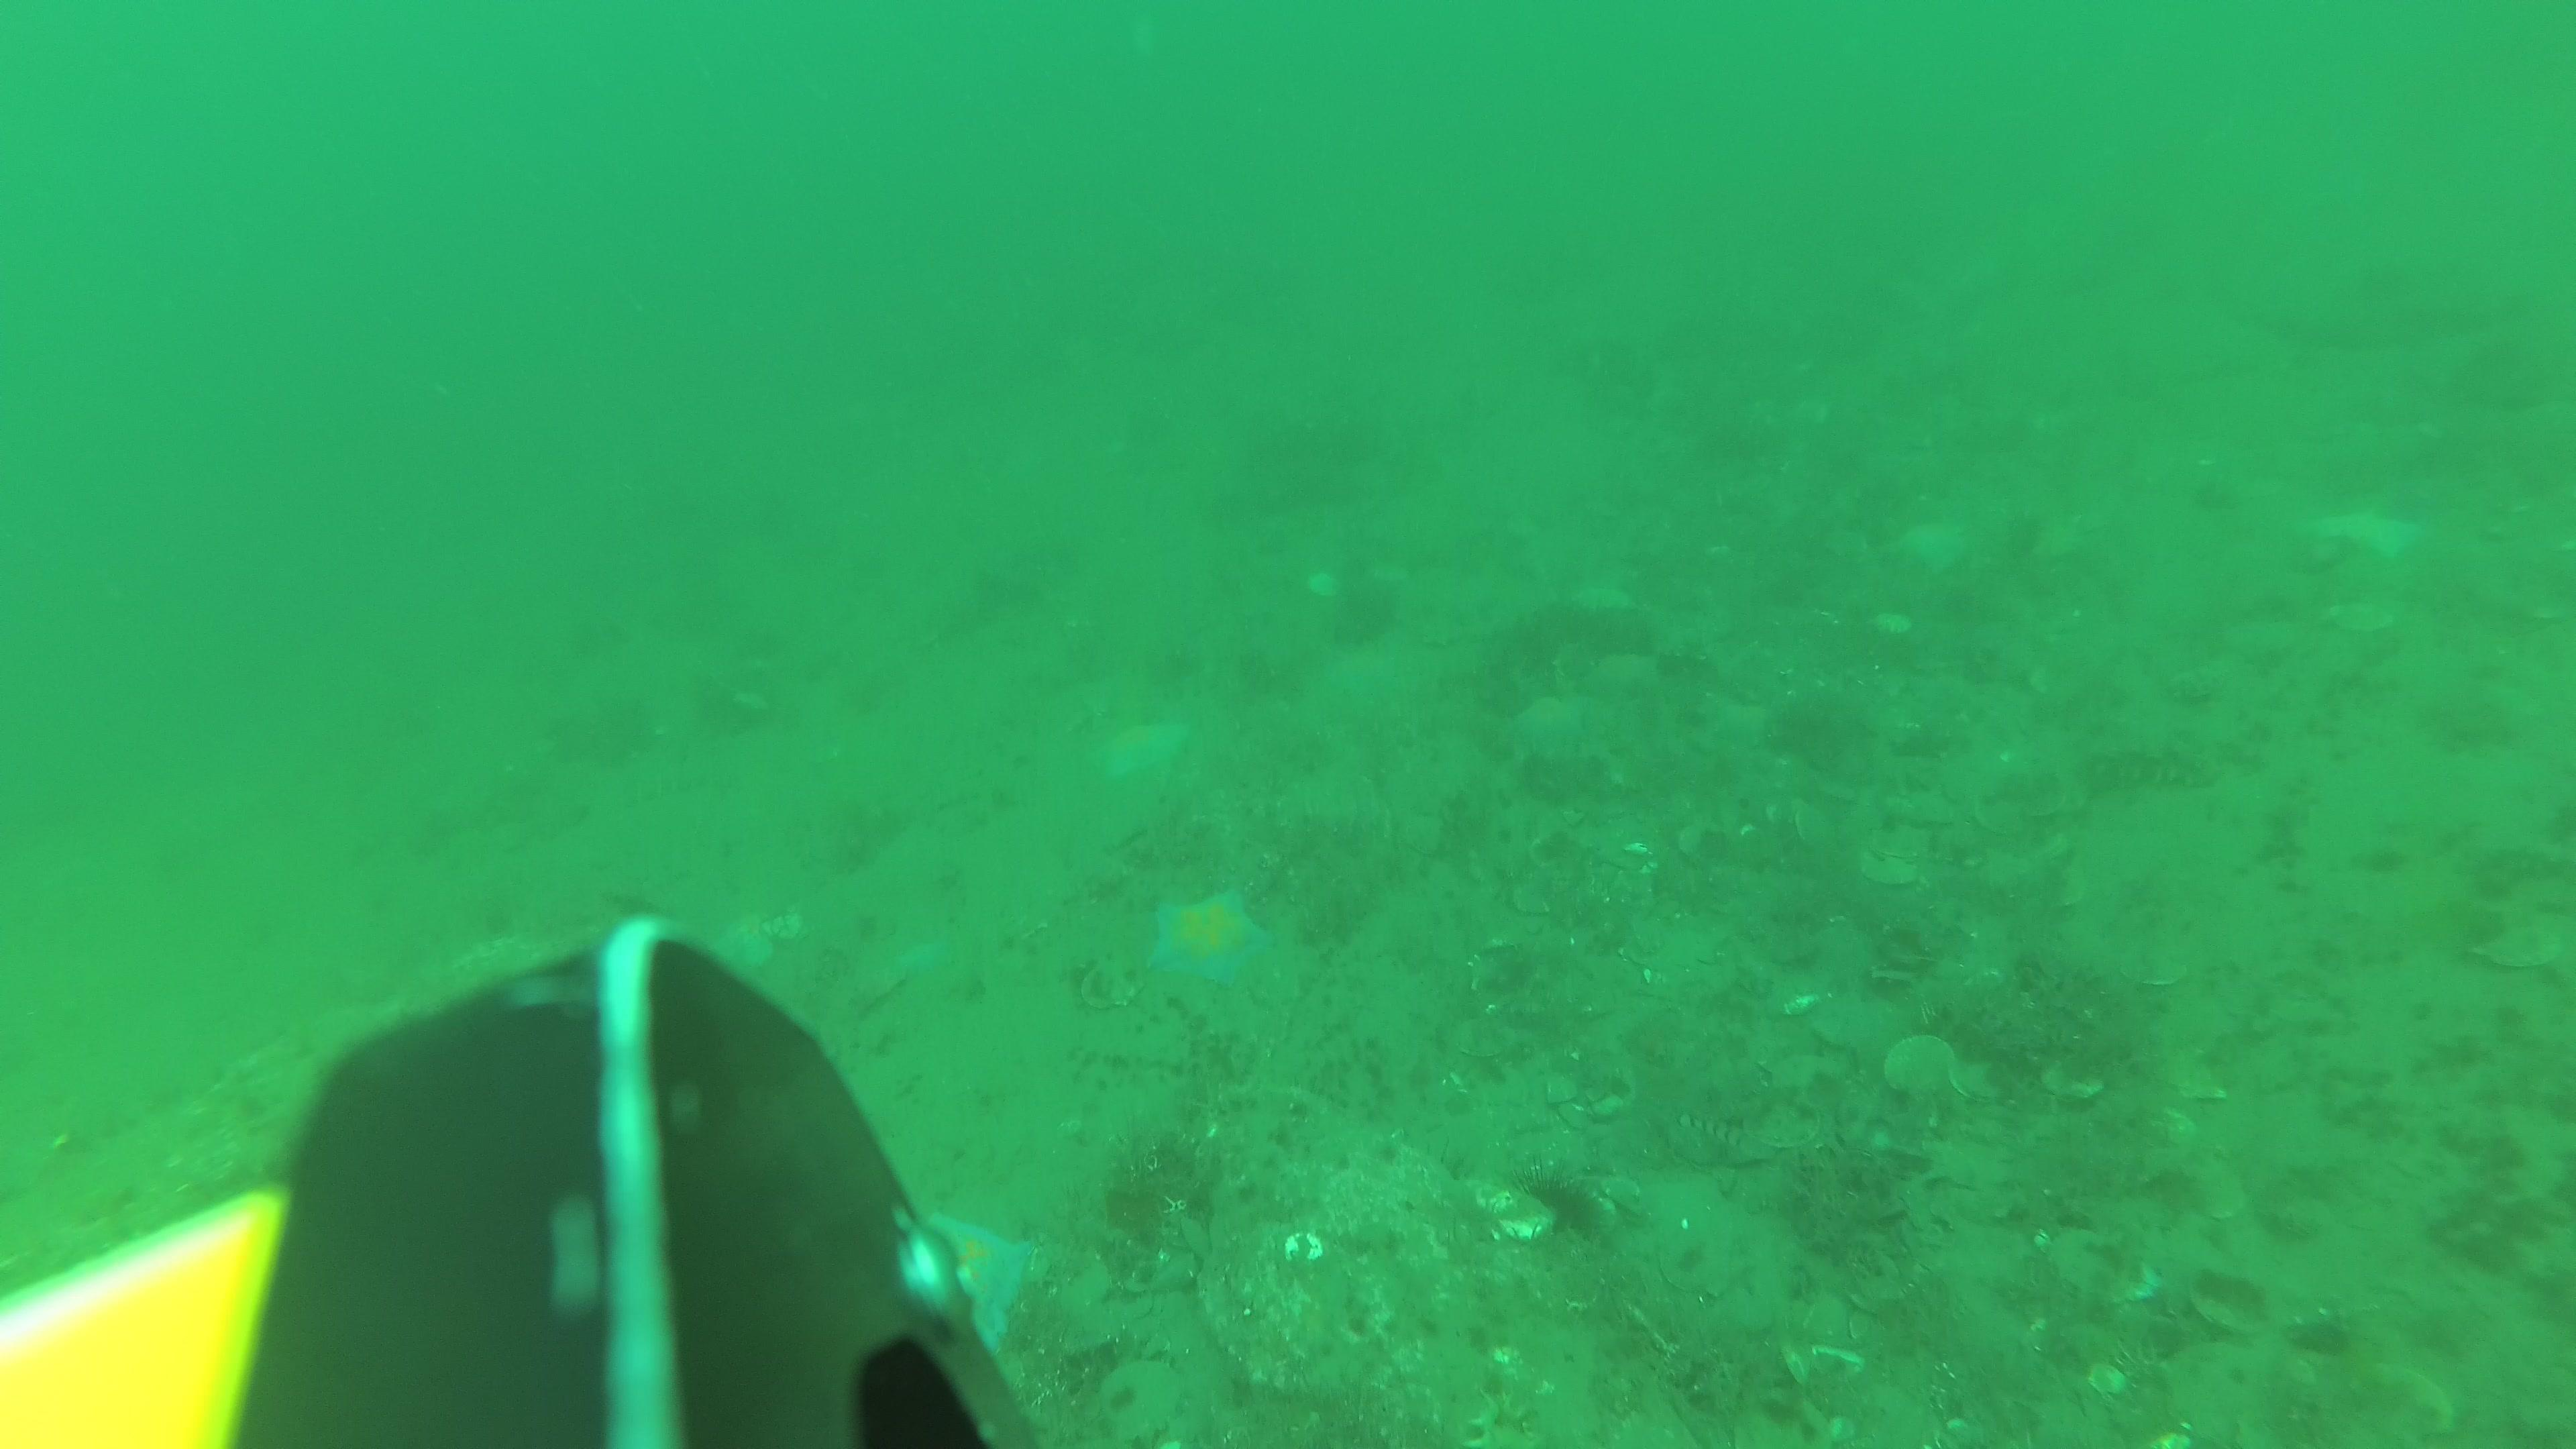echinus: (1504, 1152, 1612, 1261)
holothurian: (2072, 743, 2224, 794), (1461, 1389, 1545, 1449)
scallop: (2043, 1221, 2162, 1316), (2353, 1359, 2457, 1449), (1723, 1385, 1836, 1449), (1656, 1226, 1750, 1299), (2181, 1269, 2277, 1336), (2472, 915, 2567, 977), (1877, 1033, 1960, 1102), (1743, 1092, 1829, 1155), (1447, 1012, 1523, 1060), (1074, 959, 1139, 1014), (1951, 1049, 2010, 1108), (2120, 945, 2190, 991), (1858, 849, 1923, 890), (1868, 821, 1934, 862)
starfish: (908, 1207, 1042, 1359), (1146, 879, 1272, 993), (2304, 504, 2427, 570), (1090, 717, 1198, 789), (699, 904, 786, 982), (1511, 683, 1596, 755), (1897, 513, 1980, 579)
